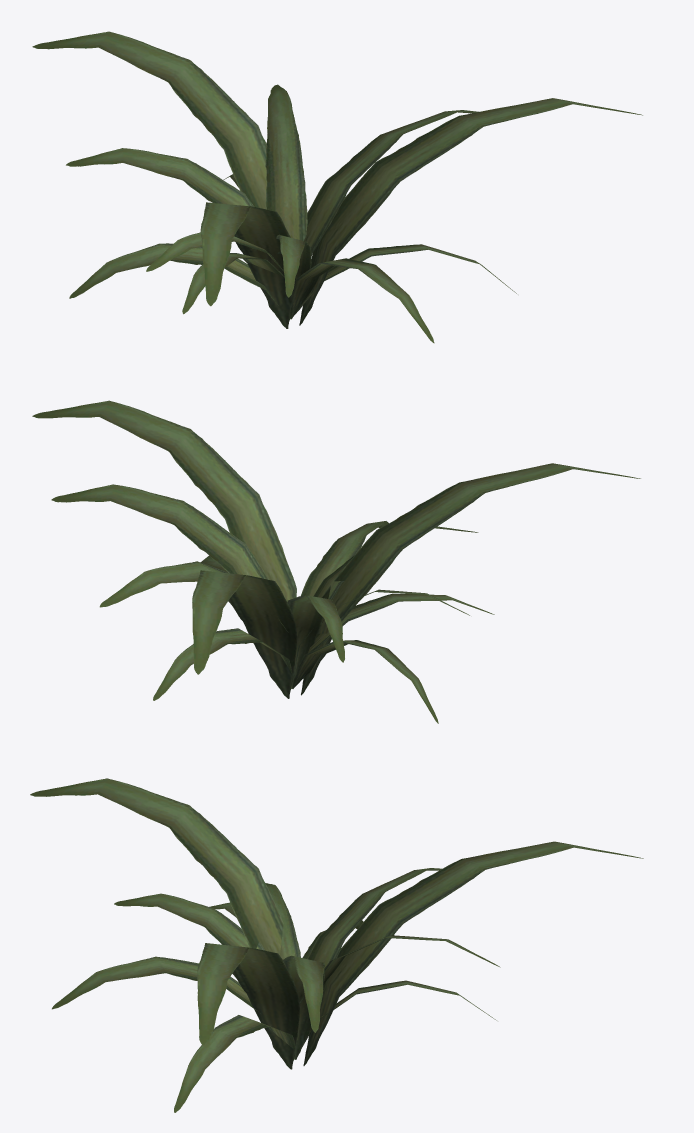
The model's file is plant.obj.
3 views of the same model, one above another, from view 1: azimuth 30°, elevation 25°; view 2: azimuth 150°, elevation 25°; view 3: azimuth 270°, elevation 25° (orthographic).
Parts seen in each view (by area): view 1: plant; view 2: plant; view 3: plant.
Part boxes in pixels (<box>): plant: <box>32,31,642,343</box>; plant: <box>32,400,640,723</box>; plant: <box>30,778,643,1112</box>.
Bounding box in the file's own units: 229 × 81.45 × 232.
1 material, 1 textured.
